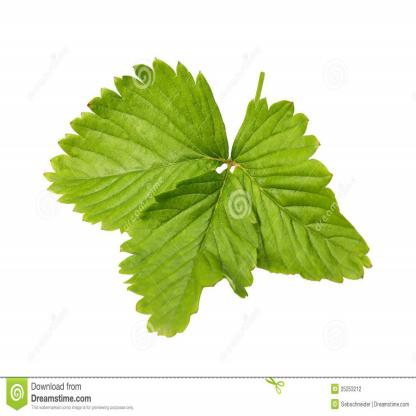Strawberry leaf: (42, 54, 229, 233), (233, 92, 379, 294), (118, 160, 262, 339)
